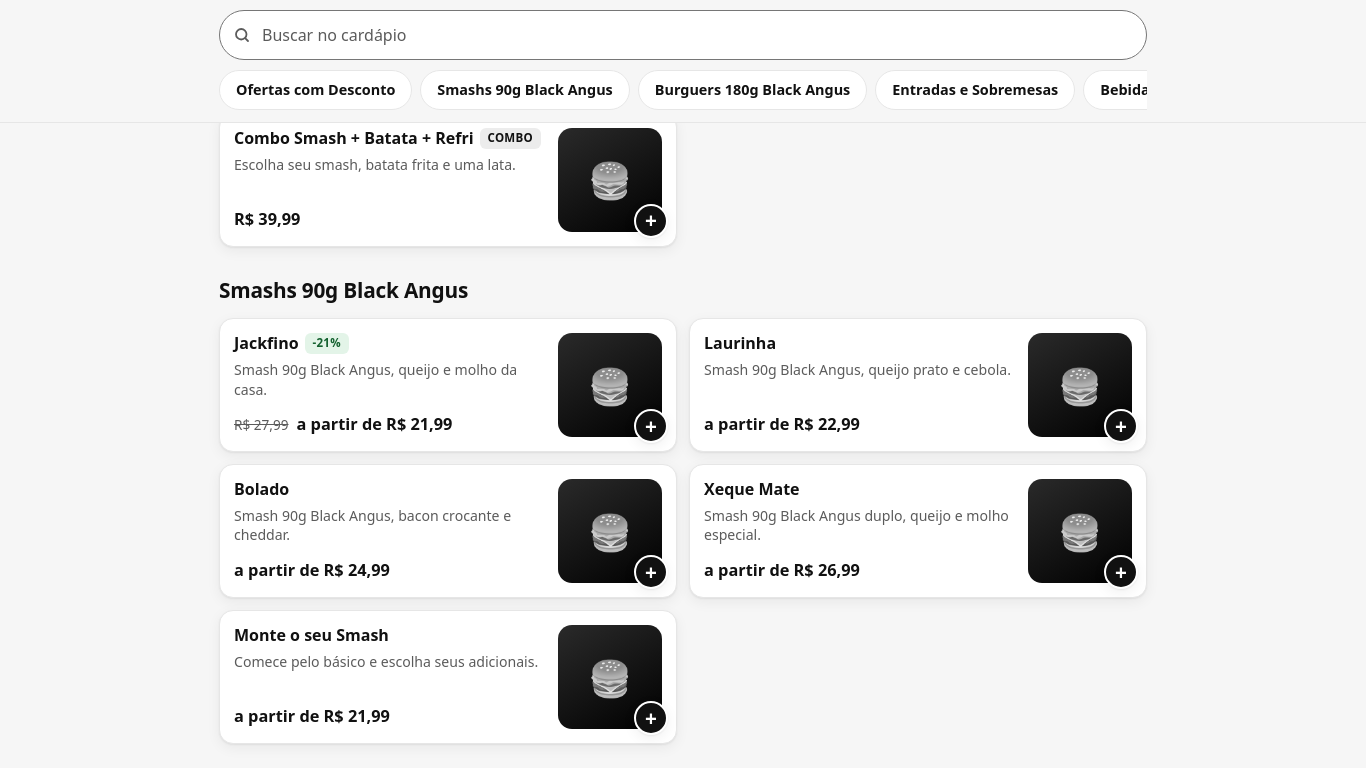
it: Cardápio público › limita a 3 adicionais: ao atingir o máximo, as demais opções ficam bloqueadas
The image size is (1366, 768).
(page scrolled)
Click the button "Jackfino": {"x": 266, "y": 343} [219,318,677,452]
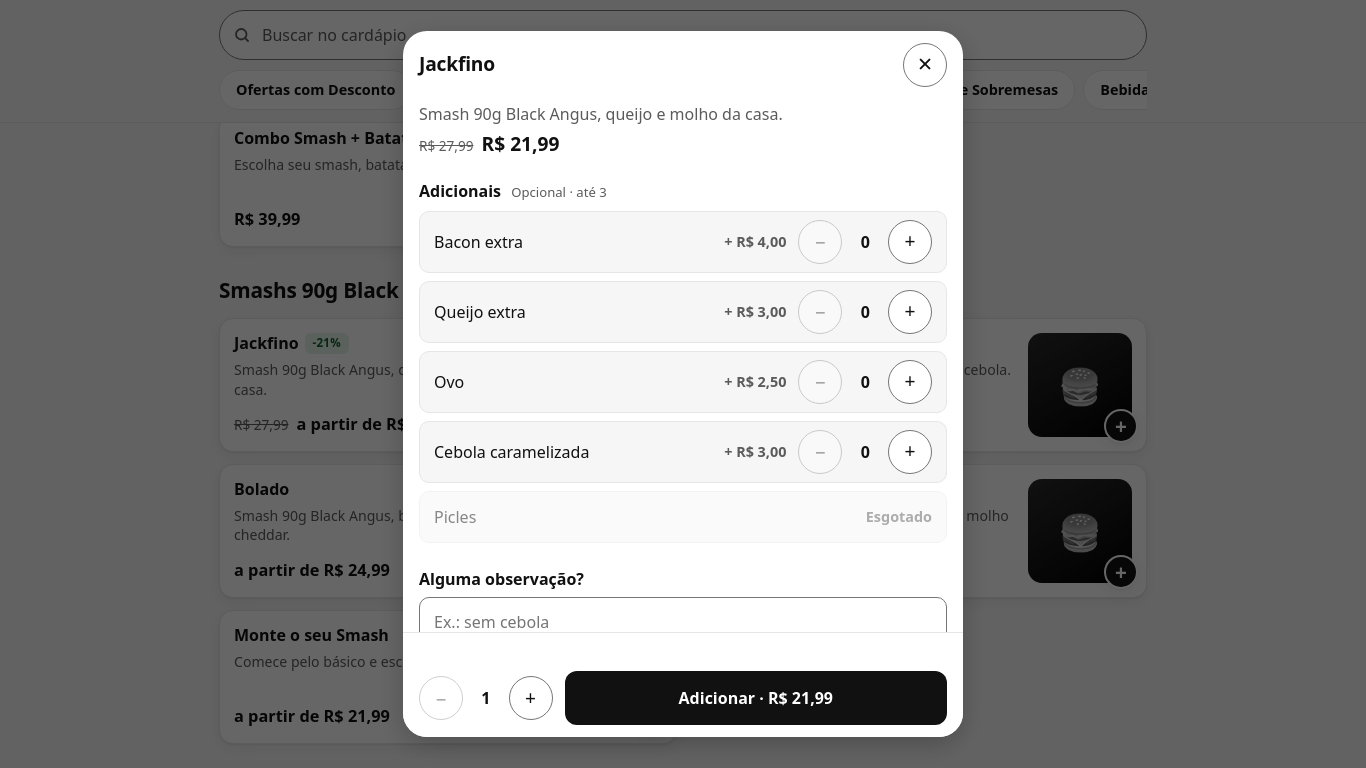
Click the button named "Aumentar quantidade de Bacon extra": {"x": 910, "y": 242} [888,220,932,264]
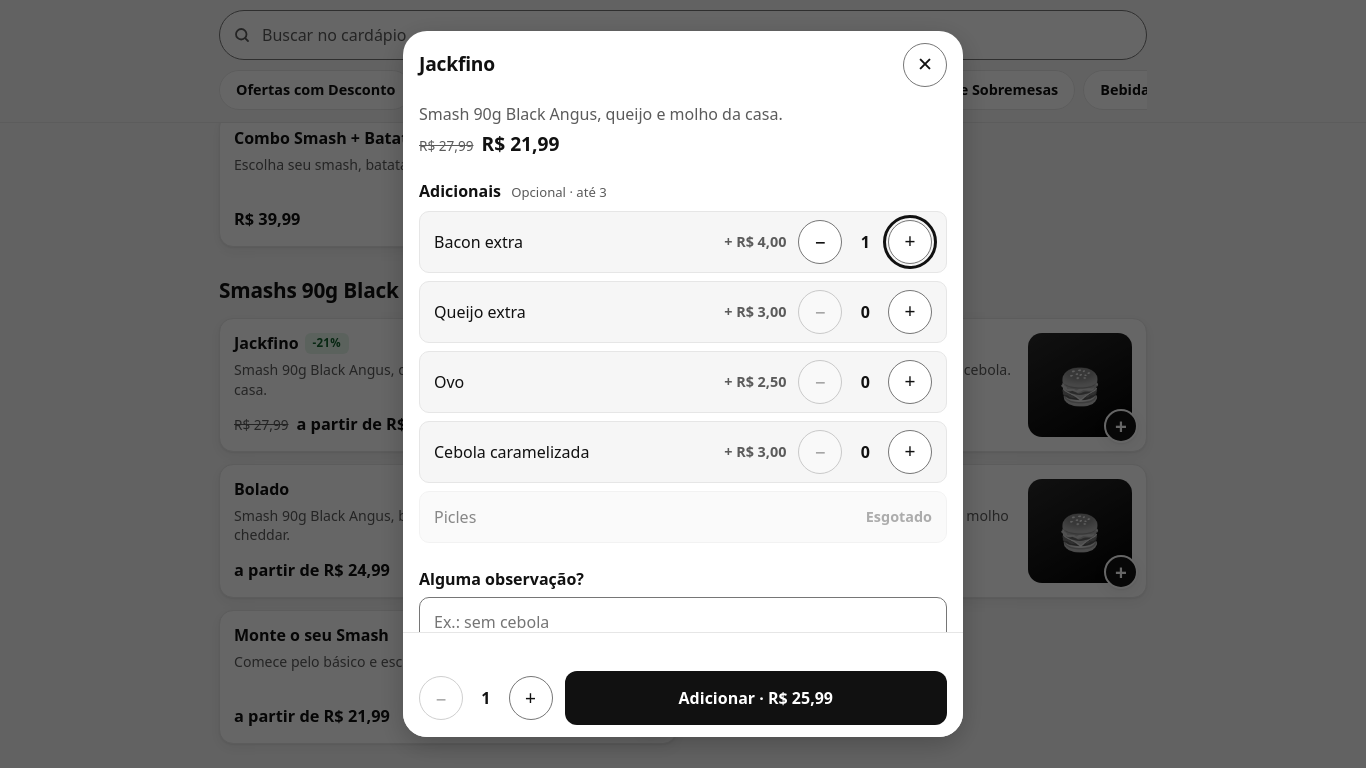
Click the button named "Aumentar quantidade de Queijo extra": {"x": 910, "y": 312} [888,290,932,334]
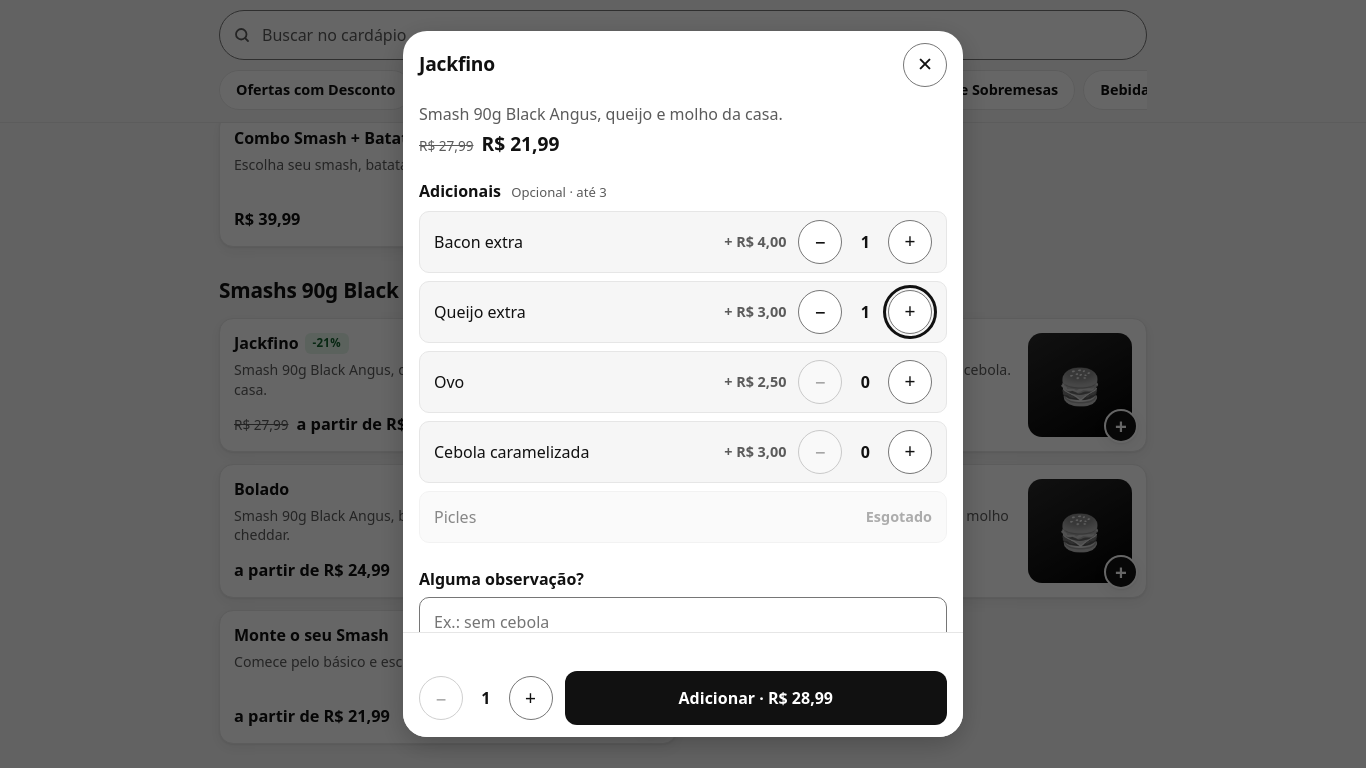
Result: the button named "Aumentar quantidade de Cebola caramelizada" is enabled at [888,430,932,474]
Click the button named "Aumentar quantidade de Ovo": {"x": 910, "y": 382} [888,360,932,404]
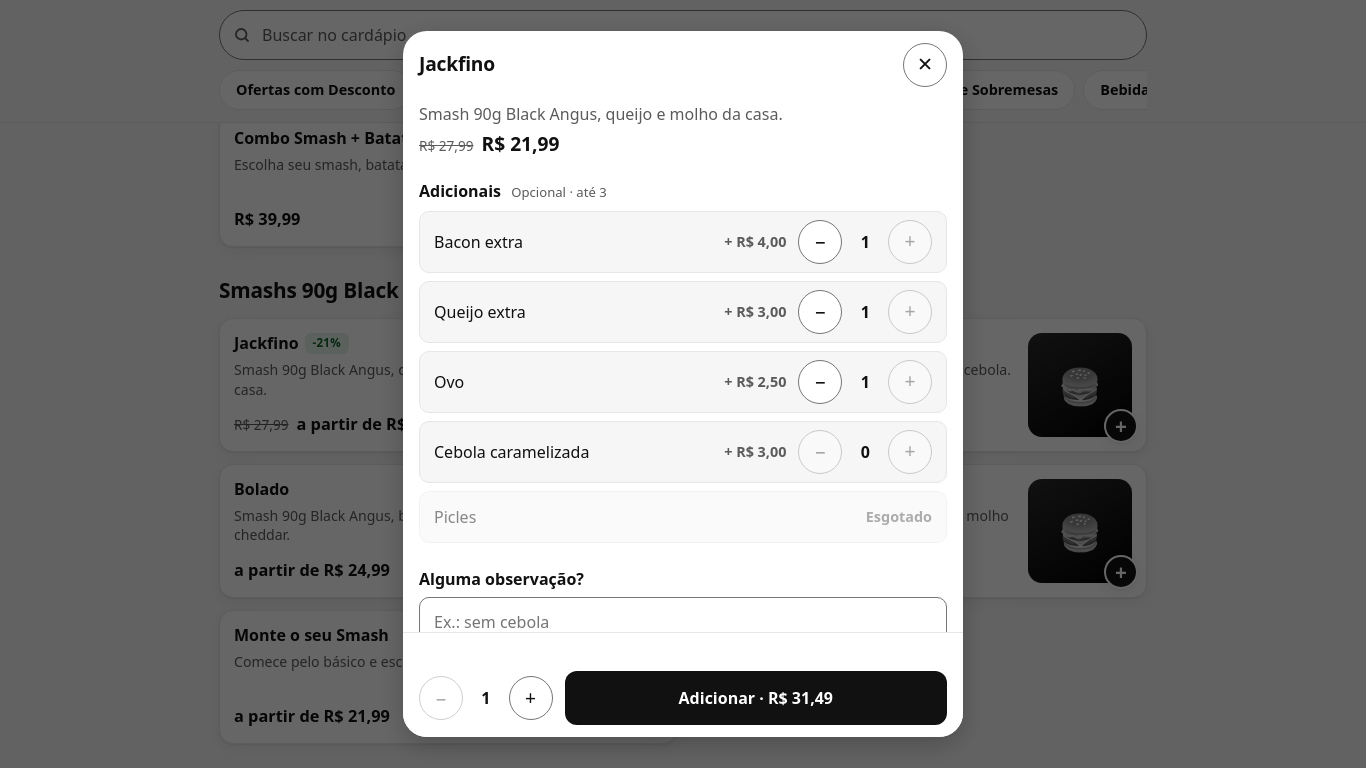
Result: the button named "Aumentar quantidade de Cebola caramelizada" is disabled at [888,430,932,474]
Result: the button "Adicionar · R$ 31,49" is shown at [565,671,947,725]
Click the button named "Diminuir quantidade de Ovo": {"x": 820, "y": 382} [798,360,842,404]
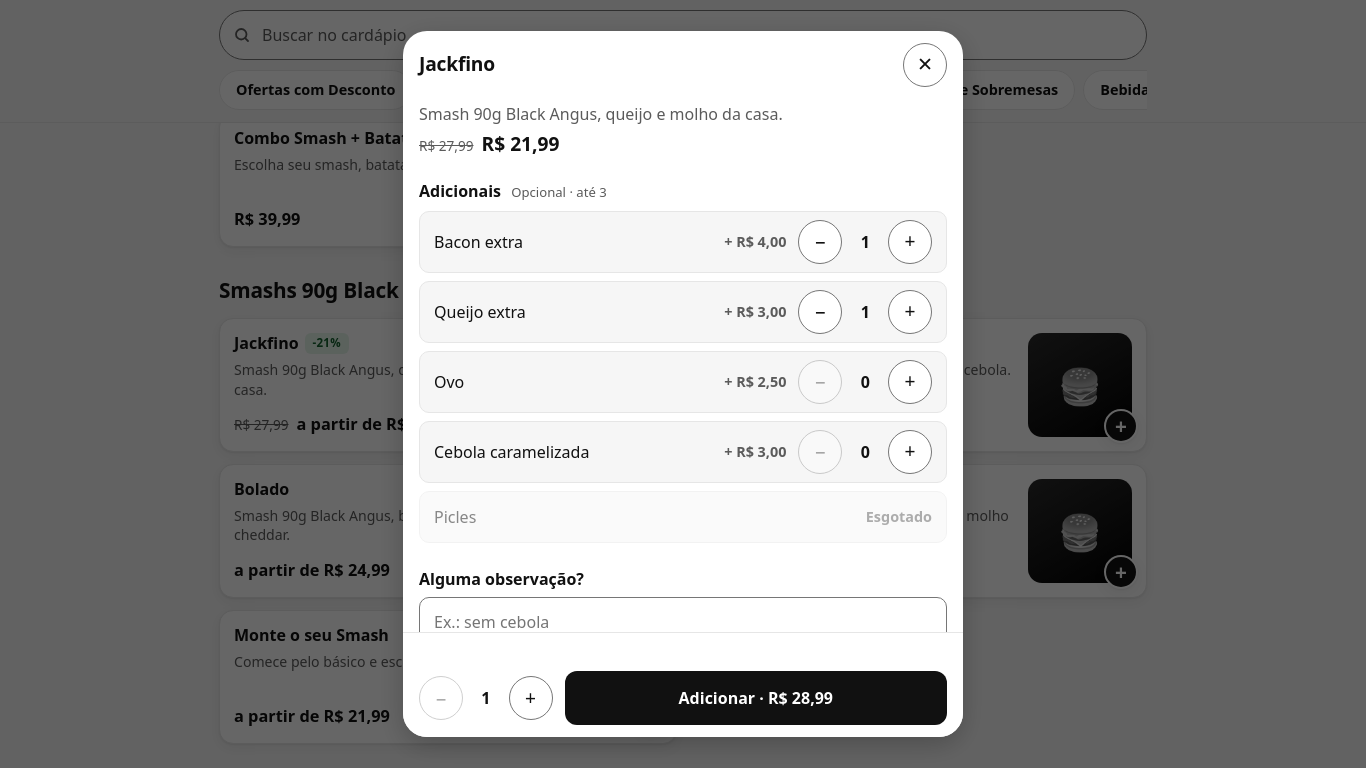
Result: the button named "Aumentar quantidade de Cebola caramelizada" is enabled at [888,430,932,474]
